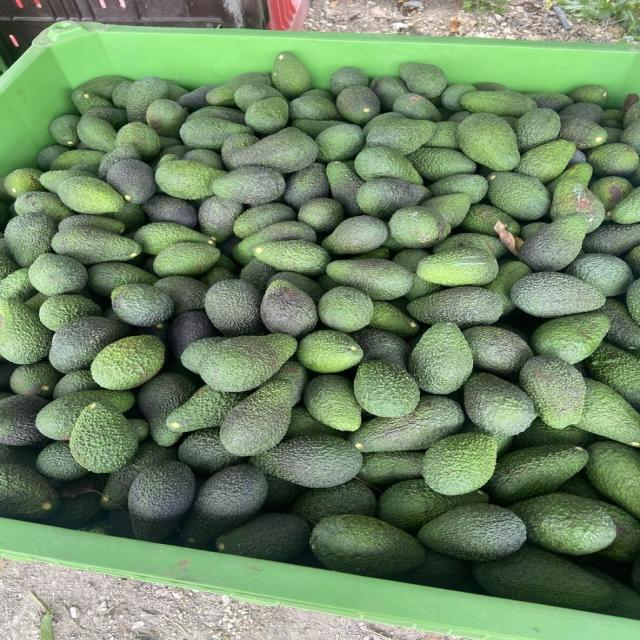avocado: (474, 545, 614, 611), (311, 515, 424, 576), (181, 465, 266, 546), (510, 493, 615, 555), (349, 396, 464, 452), (418, 503, 526, 561), (487, 445, 589, 504), (378, 480, 487, 533), (251, 436, 361, 487), (220, 380, 293, 456), (200, 335, 297, 392), (128, 461, 195, 541), (531, 301, 612, 364), (100, 442, 175, 510), (36, 389, 134, 440), (69, 403, 138, 472), (520, 356, 586, 428), (422, 432, 497, 495), (408, 323, 473, 394), (49, 317, 130, 373), (216, 513, 310, 561), (166, 385, 245, 440), (510, 272, 605, 317), (138, 373, 196, 446), (576, 379, 639, 446), (586, 442, 639, 518), (91, 335, 165, 389), (407, 286, 503, 327), (519, 214, 587, 271), (292, 479, 376, 525), (354, 360, 419, 418), (456, 113, 520, 170), (586, 342, 639, 409), (327, 259, 413, 300), (464, 327, 533, 377), (0, 464, 59, 521), (0, 300, 52, 364), (260, 280, 318, 337), (205, 280, 263, 337), (51, 228, 141, 264), (304, 375, 361, 431), (4, 213, 63, 267), (417, 248, 498, 286), (207, 166, 285, 205), (488, 172, 550, 221), (178, 428, 240, 475), (357, 178, 428, 219), (566, 254, 633, 297), (297, 331, 363, 373), (154, 160, 223, 199), (389, 206, 451, 249), (112, 284, 174, 326), (322, 216, 388, 255), (355, 147, 422, 185), (516, 140, 575, 183), (134, 223, 213, 255), (318, 287, 373, 332), (486, 260, 531, 315), (87, 262, 157, 297), (407, 147, 476, 182), (29, 254, 87, 295), (58, 177, 124, 213), (359, 451, 423, 488), (0, 396, 47, 446), (367, 118, 434, 153), (39, 294, 101, 331), (353, 327, 410, 367), (154, 243, 219, 277), (107, 160, 156, 204), (326, 162, 364, 215), (10, 361, 61, 399), (271, 52, 312, 99), (316, 124, 365, 163), (516, 108, 560, 151), (143, 195, 198, 228), (336, 85, 380, 126), (399, 63, 446, 98), (116, 122, 160, 159), (298, 198, 344, 232)
